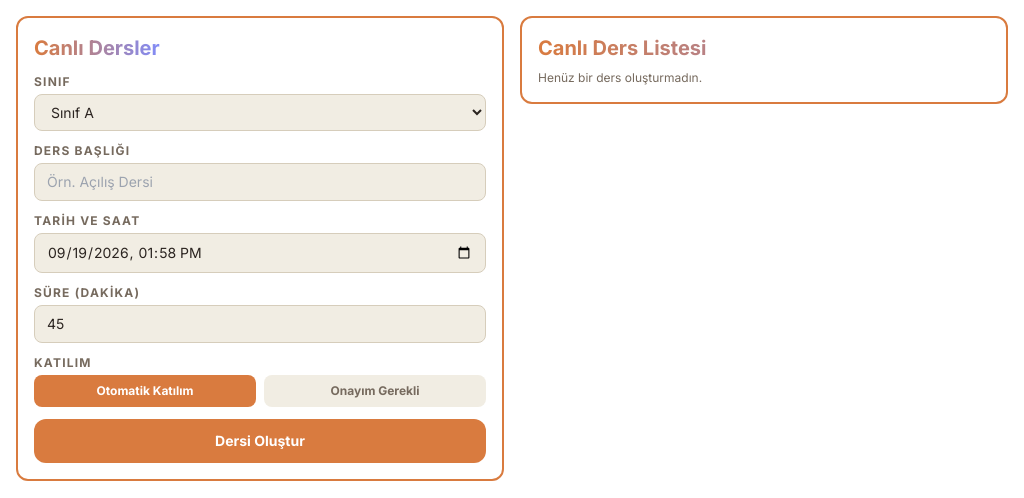
Test case: ders oluşturma — doğru payload ile createLiveLesson çağırır, listeye ekler
Type "Açılış Dersi" into the field with placeholder "Örn. Açılış Dersi" at (260, 182), box [34,163,486,201]
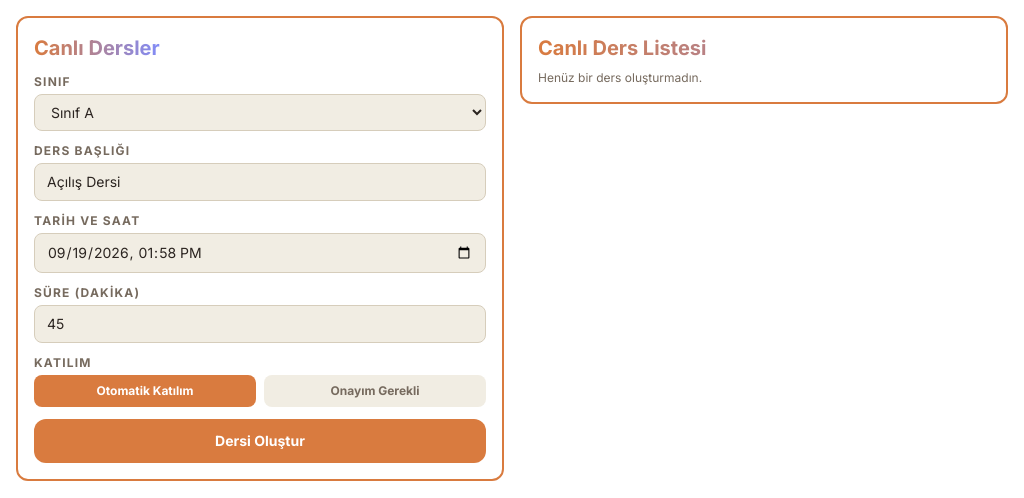
Click the button "Onayım Gerekli" at (375, 391), box [264,375,486,407]
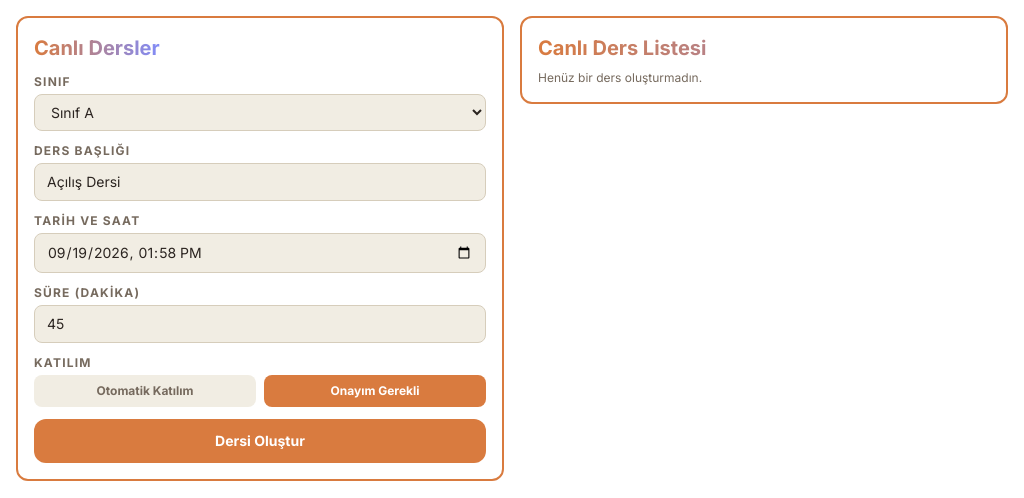
Click the button "Dersi Oluştur" at (260, 441), box [34,419,486,463]
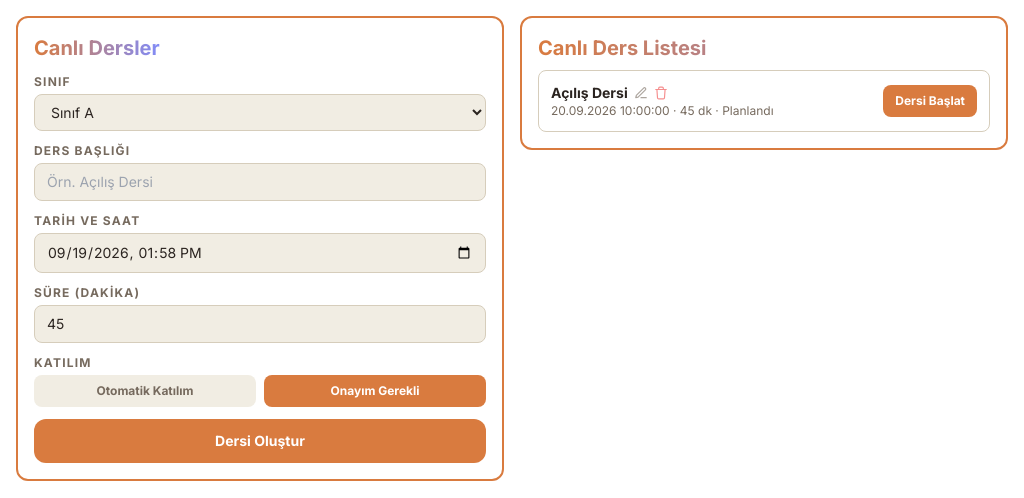
Now the text "Açılış Dersi" is shown, box [551,83,628,103]
Now the text "20.09.2026 10:00:00 · 45 dk · Planlandı" is shown, box [551,103,774,118]
